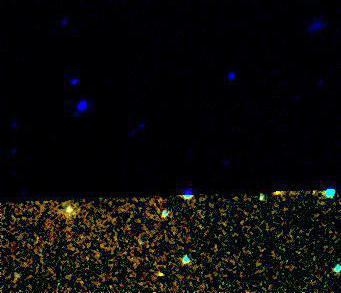star: (145, 260, 175, 290)
